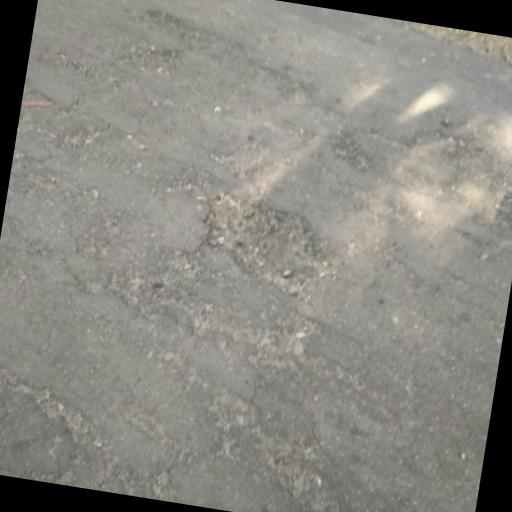pothole: (186, 181, 352, 304)
